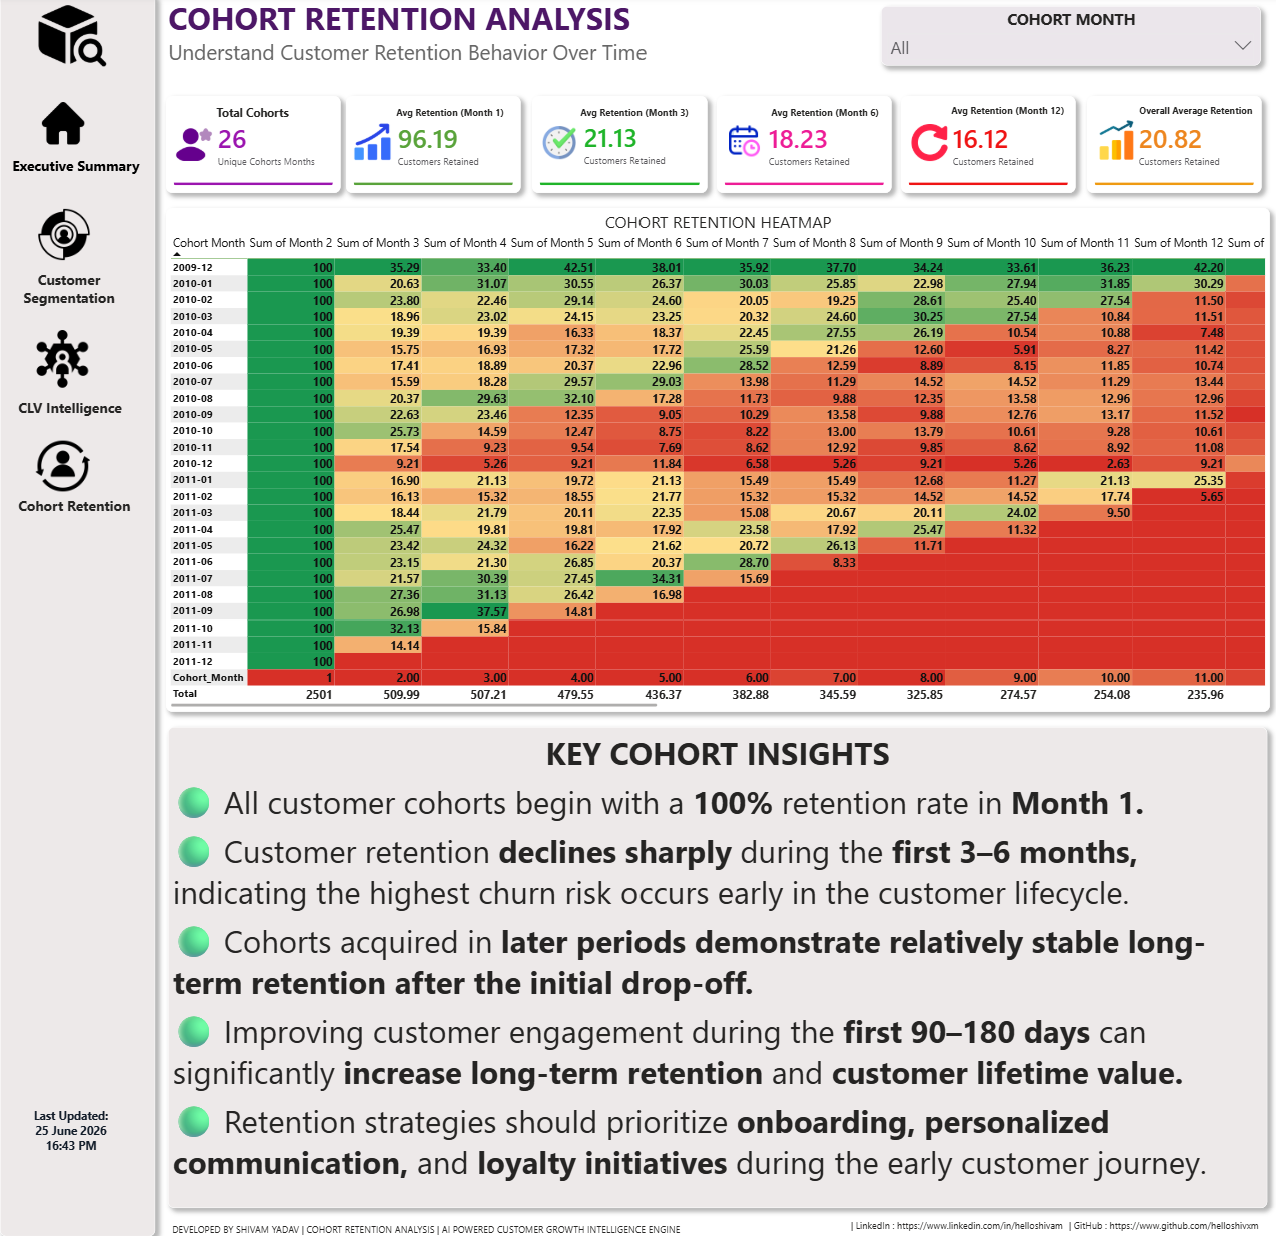

What the dashboard file says about the page in this screenshot:
{"tool":"powerbi","page":{"name":"Cohort Retention","canvas":[3000,2900],"ordinal":3},"visuals":[{"type":"textbox","box":[0,0,360,2880],"z":1000},{"type":"image","box":[88,249.9,116.2,98.6],"z":2000},{"type":"image","box":[73.9,496.3,147.8,123.2],"z":3000},{"type":"image","box":[73.9,781.4,140.8,133.8],"z":4000},{"type":"image","box":[81,1027.8,133.8,130.2],"z":5000},{"type":"textbox","box":[20.9,369.8,318.6,58.1],"z":7000},{"type":"textbox","box":[45.5,635.2,227.3,114.8],"z":8000},{"type":"textbox","box":[34.9,932.6,267.4,62.8],"z":9000},{"type":"textbox","box":[34.9,1160.5,288.4,58.1],"z":10000},{"type":"cardVisual","title":"Total Cohorts","fields":{"Data":["cohort_analysis.Total Cohorts"]},"box":[387,235,405,225],"z":12000},{"type":"cardVisual","title":"Total Cohorts","fields":{"Data":["cohort_analysis.Month 1 Retention"]},"box":[802.5,235,405,225],"z":13000},{"type":"cardVisual","title":"Total Cohorts","fields":{"Data":["cohort_analysis.Month 12 Retention"]},"box":[2087.5,235,405,225],"z":14000},{"type":"cardVisual","title":"Total Cohorts","fields":{"Data":["cohort_analysis.Month 3 Retention"]},"box":[1235,235,405,225],"z":15000},{"type":"cardVisual","title":"Total Cohorts","fields":{"Data":["cohort_analysis.Average Retention Rate"]},"box":[2520,235,405,225],"z":16000},{"type":"cardVisual","title":"Total Cohorts","fields":{"Data":["cohort_analysis.Month 6 Retention"]},"box":[1660,235,405,225],"z":17000},{"type":"textbox","box":[494.7,249.1,189.5,52.6],"z":18000},{"type":"textbox","box":[912.3,254.4,271.9,47.4],"z":19000},{"type":"textbox","box":[1342.1,254.4,264.9,47.4],"z":20000},{"type":"textbox","box":[1780.7,254.4,263.2,45.6],"z":21000},{"type":"textbox","box":[2198.2,252.6,278.9,45.6],"z":22000},{"type":"textbox","box":[2633.3,252.6,278.9,50.9],"z":23000},{"type":"textbox","box":[385.3,0,1156,189.1],"z":24000},{"type":"image","box":[402.3,295.3,93,104.7],"z":25000},{"type":"image","box":[816.3,295.3,95.3,93],"z":26000},{"type":"image","box":[1234.9,283.7,123.3,123.3],"z":27000},{"type":"image","box":[1690.7,297.7,72.1,88.4],"z":28000},{"type":"image","box":[2111.6,300,86,86],"z":29000},{"type":"image","box":[2541.9,293,90.7,93],"z":30000},{"type":"image","box":[74.4,0,181.4,188.4],"z":31000},{"type":"textbox","box":[46.2,2576.9,235.9,143.6],"z":32000},{"type":"pivotTable","title":"COHORT RETENTION HEATMAP","fields":{"Rows":["cohort_analysis.Column1"],"Values":["Sum(cohort_analysis.Column2)","Sum(cohort_analysis.Column3)","Sum(cohort_analysis.Column4)","Sum(cohort_analysis.Column5)","Sum(cohort_analysis.Column6)","Sum(cohort_analysis.Column7)","Sum(cohort_analysis.Column8)","Sum(cohort_analysis.Column9)","Sum(cohort_analysis.Column10)","Sum(cohort_analysis.Column11)","Sum(cohort_analysis.Column12)","Sum(cohort_analysis.Column13)"]},"box":[385.3,496,2558.3,1166.7],"z":33000},{"type":"slicer","title":"COHORT MONTH","fields":{"Values":["cohort_analysis.Cohort Month"]},"box":[2042.9,26.2,881,138.1],"z":34000},{"type":"textbox","box":[392,1696,2548,1116],"z":35000},{"type":"textbox","box":[393.3,2842.2,1193.3,53.3],"z":36000},{"type":"actionButton","title":"| LinkedIn : https://www.linkedin.com/in/helloshivam","box":[1973.3,2837.8,517.8,37.8],"z":37000},{"type":"actionButton","title":"| GitHub : https://www.github.com/helloshivxm","box":[2475.6,2837.8,464.4,31.1],"z":38000}]}

Visuals, with their boxes on the page's 3000x2900 design canvas (x1, y1, x2, y2). These are canvas units, not pixel positions in the 1276x1236 screenshot, which may show the page scaled, cropped or inside an application window:
textbox: Rect(0, 0, 360, 2880)
image: Rect(88, 250, 204, 348)
image: Rect(74, 496, 222, 620)
image: Rect(74, 781, 215, 915)
image: Rect(81, 1028, 215, 1158)
textbox: Rect(21, 370, 340, 428)
textbox: Rect(46, 635, 273, 750)
textbox: Rect(35, 933, 302, 995)
textbox: Rect(35, 1160, 323, 1219)
"Total Cohorts" cardVisual: Rect(387, 235, 792, 460)
"Total Cohorts" cardVisual: Rect(802, 235, 1208, 460)
"Total Cohorts" cardVisual: Rect(2088, 235, 2492, 460)
"Total Cohorts" cardVisual: Rect(1235, 235, 1640, 460)
"Total Cohorts" cardVisual: Rect(2520, 235, 2925, 460)
"Total Cohorts" cardVisual: Rect(1660, 235, 2065, 460)
textbox: Rect(495, 249, 684, 302)
textbox: Rect(912, 254, 1184, 302)
textbox: Rect(1342, 254, 1607, 302)
textbox: Rect(1781, 254, 2044, 300)
textbox: Rect(2198, 253, 2477, 298)
textbox: Rect(2633, 253, 2912, 304)
textbox: Rect(385, 0, 1541, 189)
image: Rect(402, 295, 495, 400)
image: Rect(816, 295, 912, 388)
image: Rect(1235, 284, 1358, 407)
image: Rect(1691, 298, 1763, 386)
image: Rect(2112, 300, 2198, 386)
image: Rect(2542, 293, 2633, 386)
image: Rect(74, 0, 256, 188)
textbox: Rect(46, 2577, 282, 2720)
"COHORT RETENTION HEATMAP" pivotTable: Rect(385, 496, 2944, 1663)
"COHORT MONTH" slicer: Rect(2043, 26, 2924, 164)
textbox: Rect(392, 1696, 2940, 2812)
textbox: Rect(393, 2842, 1587, 2896)
"| LinkedIn : https://www.linkedin.com/in/helloshivam" actionButton: Rect(1973, 2838, 2491, 2876)
"| GitHub : https://www.github.com/helloshivxm" actionButton: Rect(2476, 2838, 2940, 2869)
